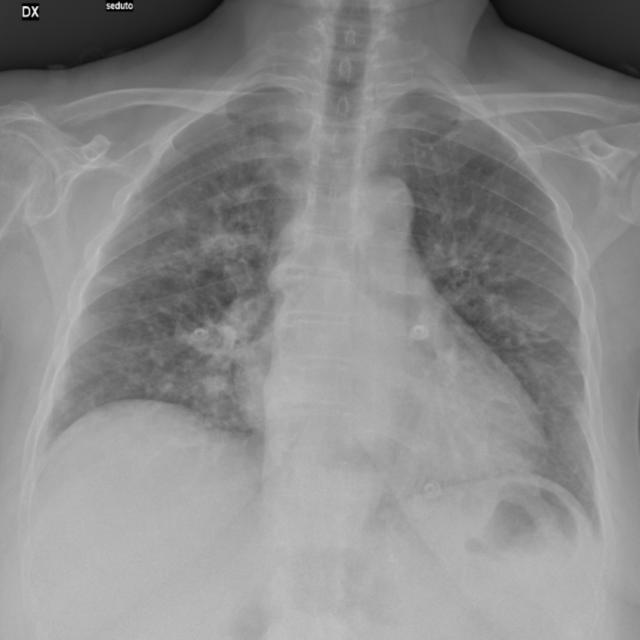abnormalities: (424, 219, 557, 359), (182, 282, 259, 368)
diaphragm: (37, 396, 602, 640)
heart: (229, 168, 559, 546)
left_lobe: (372, 68, 604, 559)
right_lobe: (41, 72, 324, 466)
